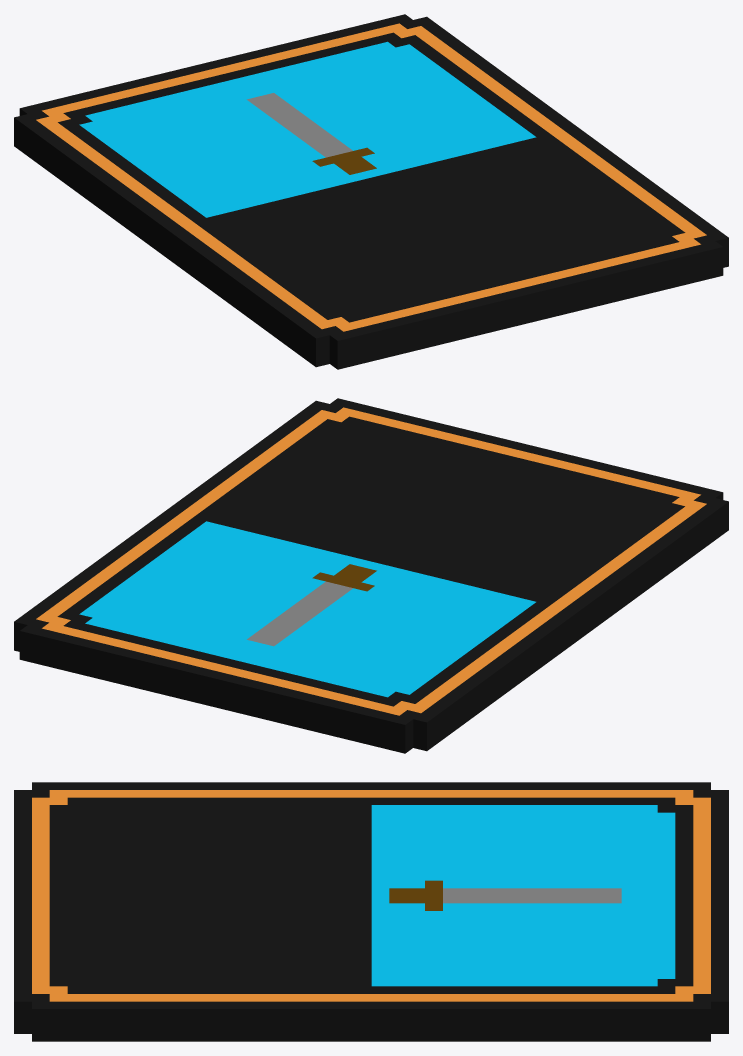
File: Double edged sword-0.obj
The picture shows the model from 3 angles, top to bottom: view 1: azimuth 30°, elevation 25°; view 2: azimuth 150°, elevation 25°; view 3: azimuth 270°, elevation 25°; orthographic projection. The views are drawn at different scales.
Bounding box in the file's own units: 3 × 0.2 × 4.
1 material, 1 textured.
